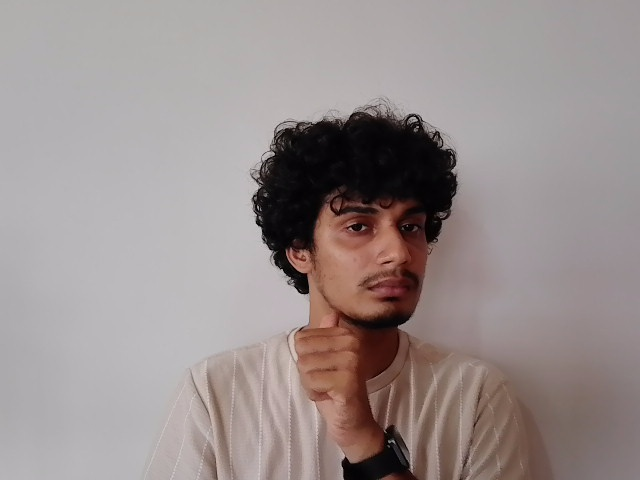not: (289, 298, 431, 394)
